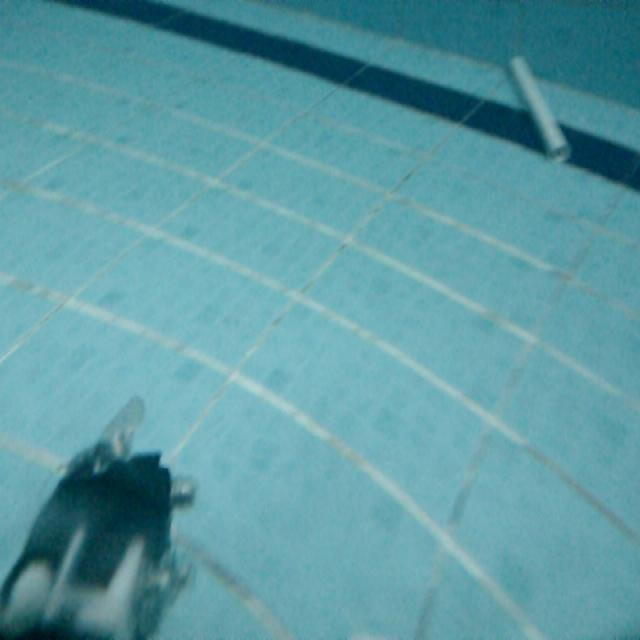Cube: (507, 52, 572, 169)
